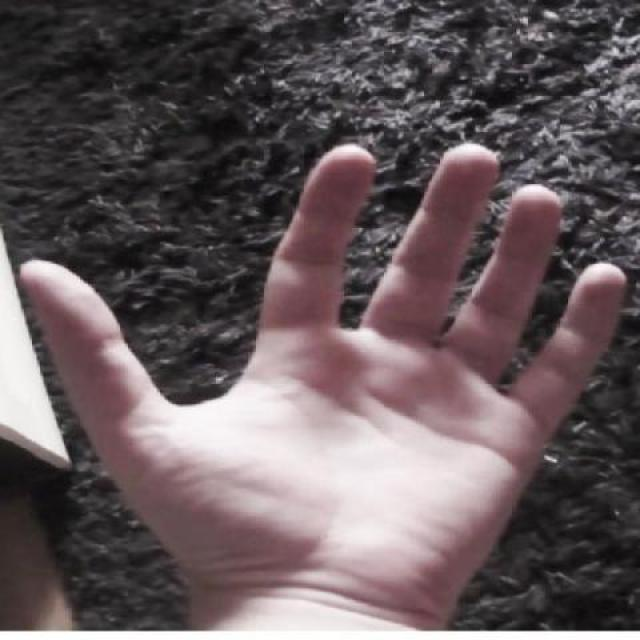Open Hand: (17, 137, 627, 622)
